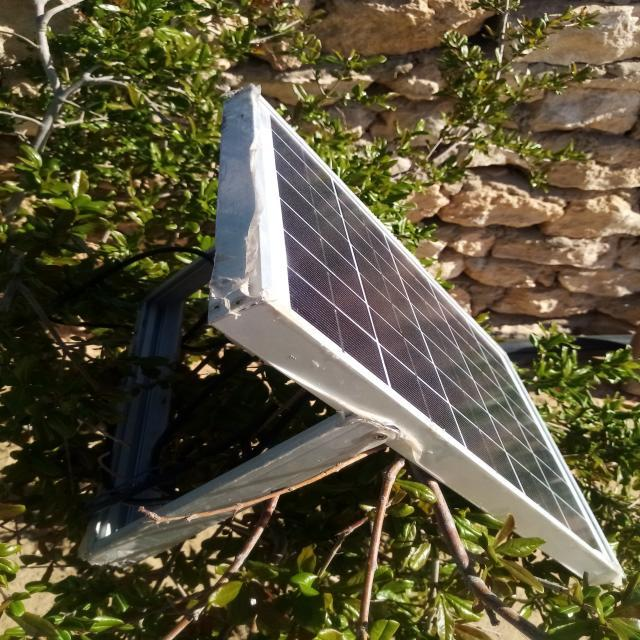no faulty: (258, 89, 619, 568)
